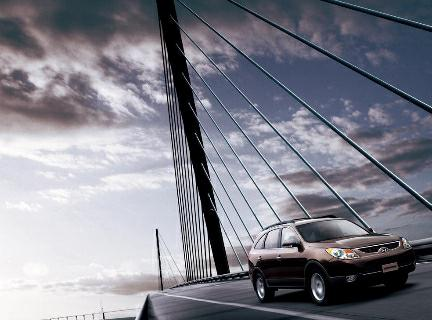雪佛兰-迈锐宝XL: (241, 213, 423, 317)
